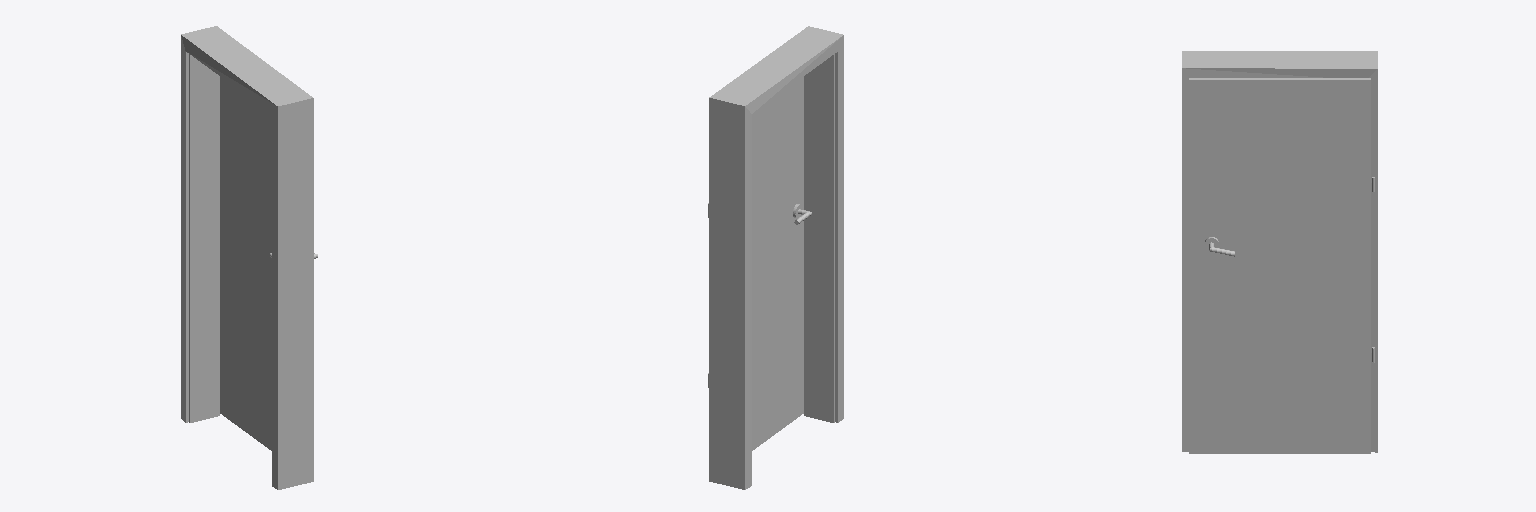
File: door90.obj
3 renders of one model, left to right at view 1: azimuth 30°, elevation 25°; view 2: azimuth 150°, elevation 25°; view 3: azimuth 270°, elevation 25°, orthographic.
Parts seen in each view (by area): view 1: Cylinder.005, Cylinder.001; view 2: Cylinder.005, Cylinder.001; view 3: Cylinder.001, Cylinder.005.
Part boxes in pixels (x1,y1,x2,y2): Cylinder.005: (181,26,313,489); Cylinder.001: (220,77,271,450); Cylinder.005: (708,26,843,489); Cylinder.001: (708,77,803,450); Cylinder.001: (1189,78,1374,453); Cylinder.005: (1182,51,1377,452).
Bounding box in the file's own units: 0.3039 × 2.05 × 0.95.